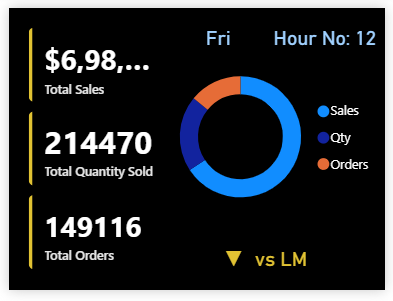

The dashboard page shown, as its layout file describes it:
{"tool":"powerbi","page":{"name":" Tool Tip - Day & Hour chart","canvas":[320,240],"ordinal":2},"visuals":[{"type":"cardVisual","fields":{"Data":["Transactions.Total Sales","Transactions.Total Quantity Sold","Transactions.Total Orders"]},"box":[0,0,152,240],"z":0},{"type":"donutChart","fields":{"Y":["Transactions.Total Sales","Transactions.Total Quantity Sold","Transactions.Total Orders"]},"box":[128,30,192,160],"z":1000},{"type":"card","fields":{"Values":["Transactions.TT for Hour"]},"box":[218,0,102,52],"z":2000},{"type":"card","fields":{"Values":["Transactions.MoM Growth & Diff Sales"]},"box":[116,188,204,52],"z":3000},{"type":"card","fields":{"Values":["Min(Date Table.Day Name)"]},"box":[138,0,80,52],"z":4000}]}

Visuals, with their boxes in screenshot pixels (x1, y1, x2, y2), scaled from the page's 320x240 canvas onto the 393x301 screenshot:
cardVisual - Transactions.Total Sales x Transactions.Total Quantity Sold: 0 0 187 300
donutChart - Transactions.Total Sales x Transactions.Total Quantity Sold: 157 38 392 238
card - Transactions.TT for Hour: 268 0 392 65
card - Transactions.MoM Growth & Diff Sales: 142 236 392 300
card - Min(Date Table.Day Name): 169 0 268 65
